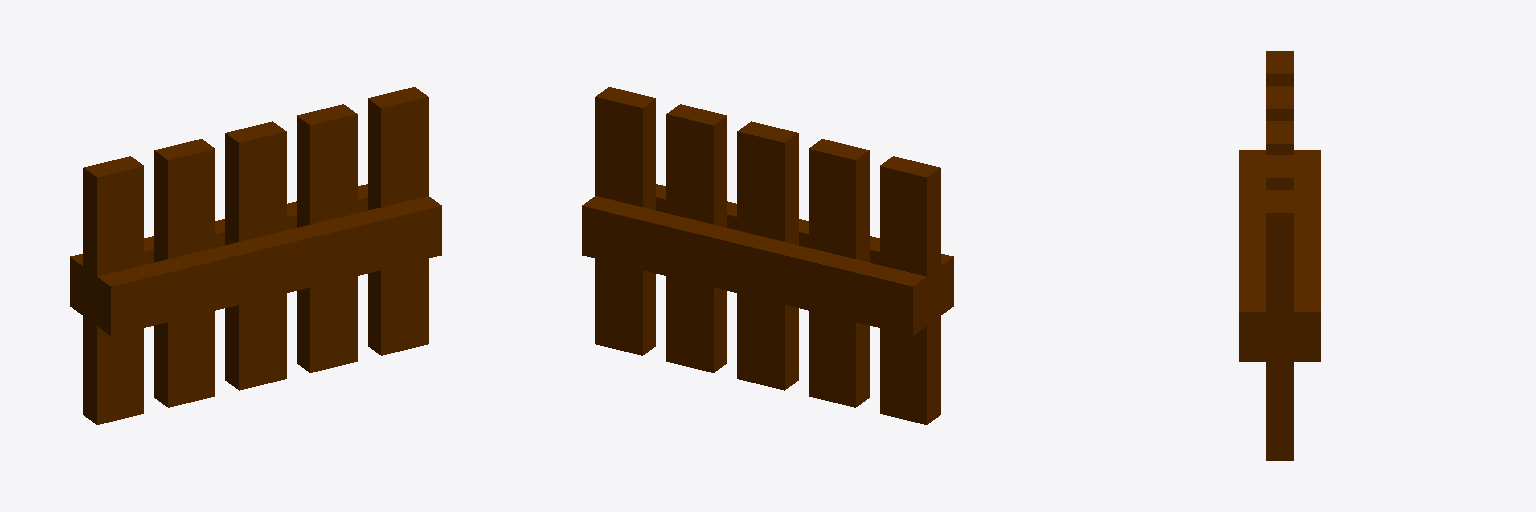
The picture shows the model from 3 angles: view 1: azimuth 30°, elevation 25°; view 2: azimuth 150°, elevation 25°; view 3: azimuth 270°, elevation 25°; orthographic projection.
Parts seen in each view (by area): view 1: object 1; view 2: object 1; view 3: object 1.
Part boxes in pixels (x1,y1,x2,y2): object 1: (70, 87, 441, 424); object 1: (582, 87, 953, 424); object 1: (1239, 51, 1320, 460).
Size of the model in its own units: 1.4 by 1 by 0.3.
1 materials, 1 textured.